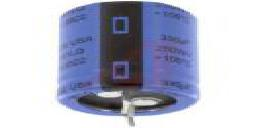Electrolytic-capacitor: (58, 1, 203, 128)
